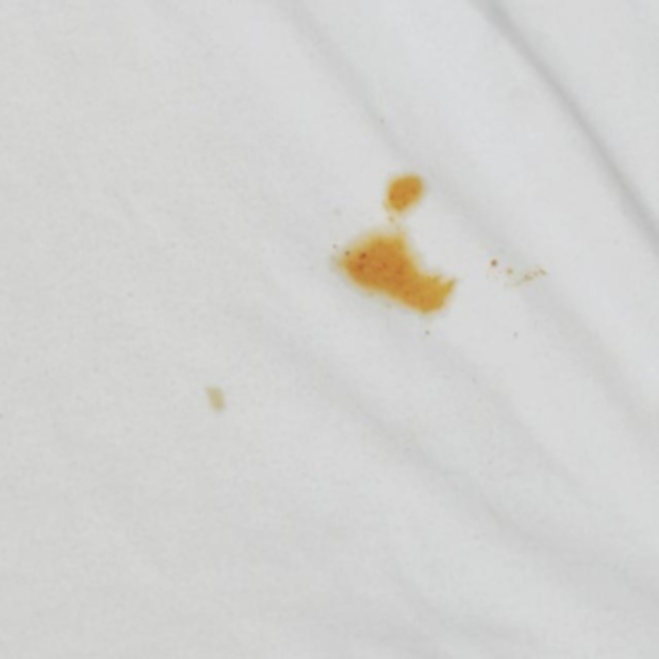kimchi: (324, 154, 466, 348), (480, 239, 558, 300), (194, 381, 235, 414), (506, 325, 525, 343)
